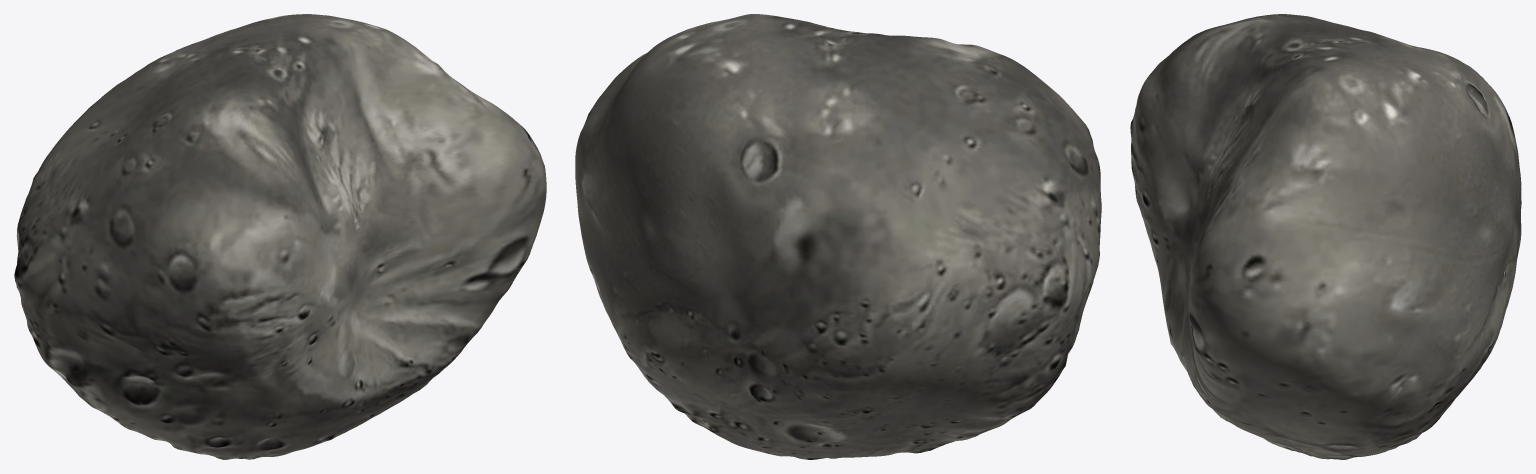
The model's file is deimos.glb.
3 renders of one model, left to right at view 1: azimuth 30°, elevation 25°; view 2: azimuth 150°, elevation 25°; view 3: azimuth 270°, elevation 25°, orthographic. The views are drawn at different scales.
Visible parts, largest first — view 1: deimos; view 2: deimos; view 3: deimos.
Boxes of the visible parts, bbox=[...] form: deimos: bbox=[14, 14, 546, 459]; deimos: bbox=[575, 14, 1101, 459]; deimos: bbox=[1130, 14, 1521, 459].
Bounding box in the file's own units: 15.01 × 11.87 × 10.51.
Materials: 1 (1 with a texture image).
